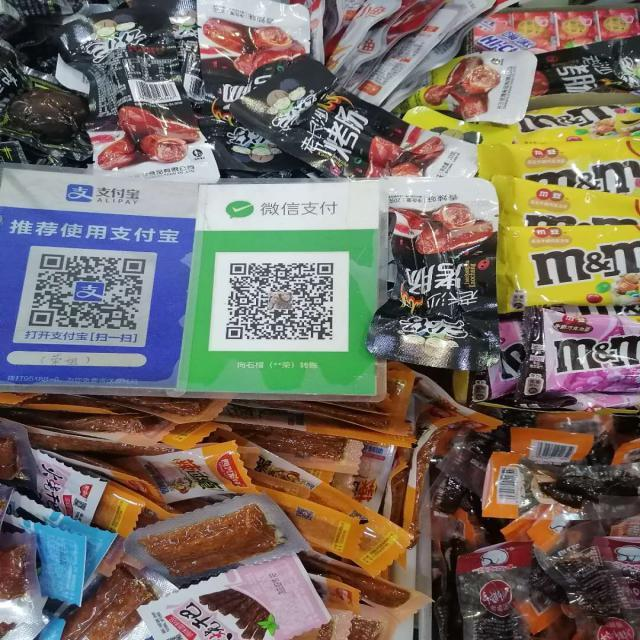qr_code: (226, 261, 337, 342), (29, 254, 145, 330)
